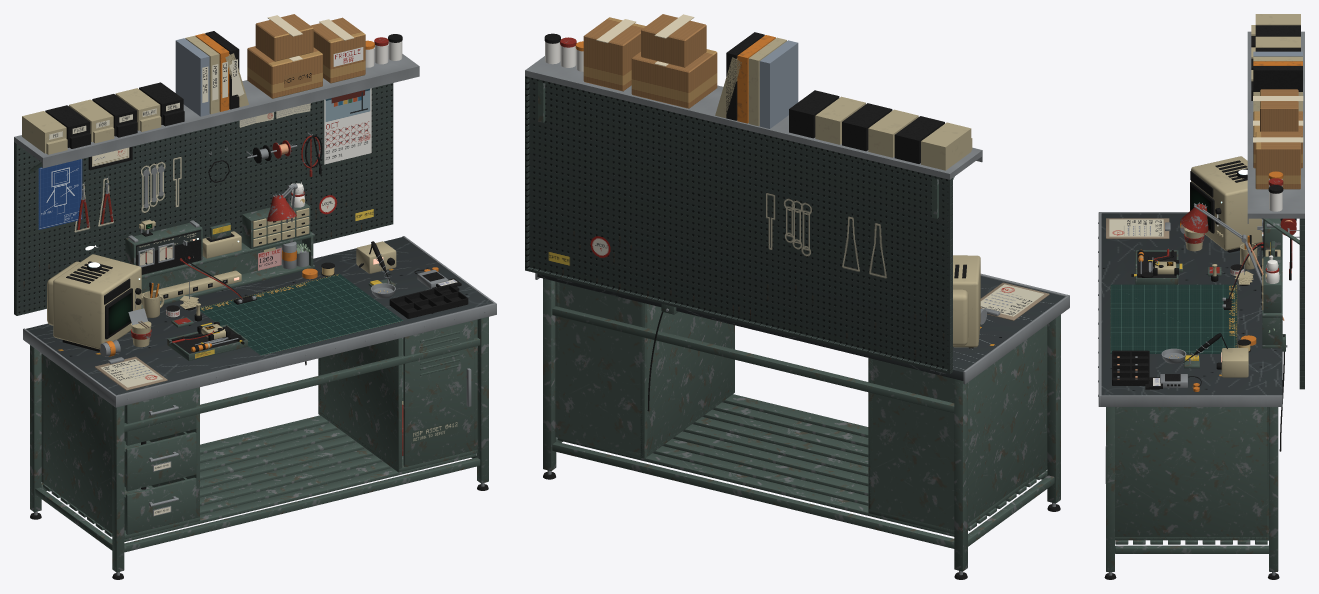
File: RepairBenchV2.fbx
3 views of the same model, side by side, from view 1: azimuth 30°, elevation 25°; view 2: azimuth 150°, elevation 25°; view 3: azimuth 270°, elevation 25° (orthographic). The views are drawn at different scales.
Visible parts, largest first — view 1: BV2_Pegboard, BV2_Frame, BV2_ShelfGoods, BV2_Top, BV2_Pedestal, BV2_Mat, BV2_WallPrints, BV2_Cabinet, BV2_CabinetDoor, BV2_WallShelf, BV2_TopLip, BV2_Crt (+16 smaller); view 2: BV2_Pegboard, BV2_Frame, BV2_ShelfGoods, BV2_Pedestal, BV2_Cabinet, BV2_WallShelf, BV2_Top, BV2_Crt, BV2_TopLip, BV2_WorkOrder; view 3: BV2_Cabinet, BV2_Top, BV2_ShelfGoods, BV2_Mat, BV2_Frame, BV2_Crt, BV2_TopLip, BV2_WallShelf, BV2_PartsTray, BV2_Pegboard, BV2_ToolTray, BV2_WorkOrder (+15 smaller).
Part boxes in pixels (x1,y1,x2,y2): BV2_Pegboard: (14,83,393,315); BV2_Frame: (30,317,488,572); BV2_ShelfGoods: (22,14,402,154); BV2_Top: (26,237,492,395); BV2_Pedestal: (41,354,199,539); BV2_Mat: (200,273,403,355); BV2_WallPrints: (38,47,371,229); BV2_Cabinet: (318,319,477,472); BV2_CabinetDoor: (403,320,473,466); BV2_WallShelf: (14,46,419,173); BV2_TopLip: (23,236,496,407); BV2_Crt: (47,254,141,351); BV2_Pegboard: (525,76,952,373); BV2_Frame: (543,278,1060,571); BV2_ShelfGoods: (544,14,972,170); BV2_Pedestal: (868,325,1047,534); BV2_Cabinet: (555,281,734,458); BV2_WallShelf: (525,56,982,218); BV2_Top: (537,273,1064,380); BV2_Crt: (953,255,980,348); BV2_TopLip: (535,273,1069,384); BV2_WorkOrder: (980,284,1043,316); BV2_Cabinet: (1115,407,1268,540); BV2_Top: (1101,213,1282,395); BV2_ShelfGoods: (1251,14,1303,211); BV2_Mat: (1110,284,1237,353); BV2_Frame: (1106,407,1278,571); BV2_Crt: (1190,156,1262,252); BV2_TopLip: (1098,212,1282,406); BV2_WallShelf: (1247,31,1304,244); BV2_PartsTray: (1112,350,1149,385); BV2_Pegboard: (1299,218,1304,389); BV2_ToolTray: (1135,250,1178,284); BV2_WorkOrder: (1109,219,1163,236).
Bounding box in the file's own units: 1.92 × 2.07 × 0.913.
